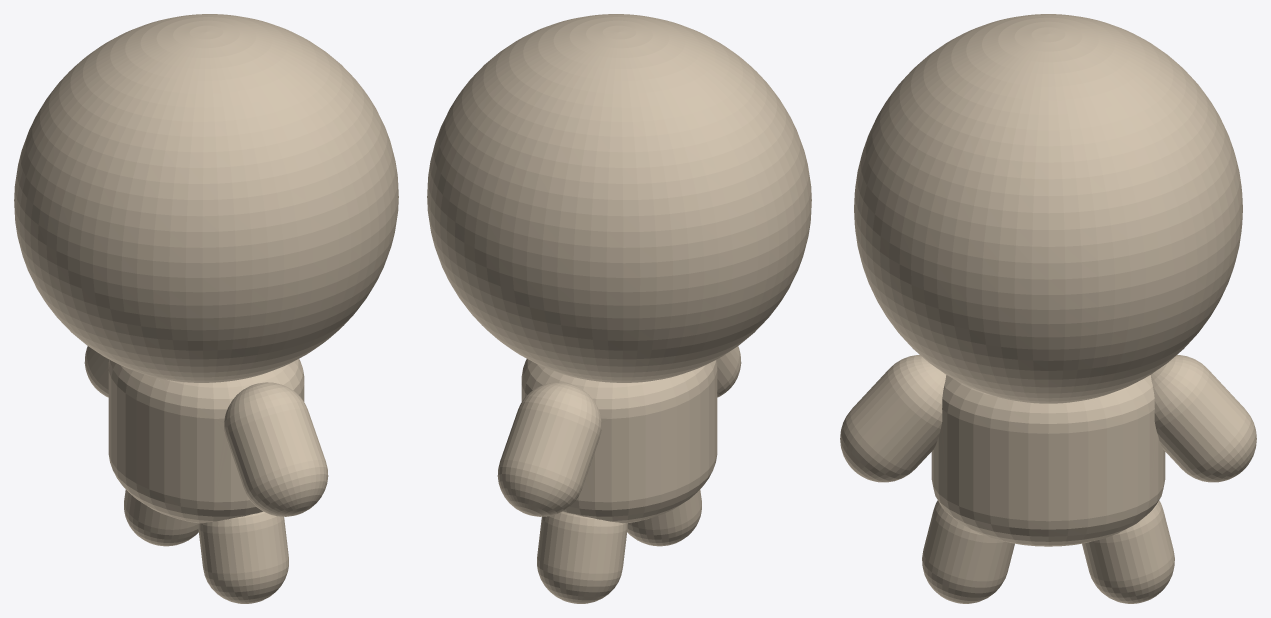
File: dummie.glb
The picture shows the model from 3 angles, left to right: view 1: azimuth 30°, elevation 25°; view 2: azimuth 150°, elevation 25°; view 3: azimuth 270°, elevation 25°; orthographic projection. The views are drawn at different scales.
Visible parts, largest first — view 1: Mesh_Mesh_head_geo.001_lambert2SG.001; view 2: Mesh_Mesh_head_geo.001_lambert2SG.001; view 3: Mesh_Mesh_head_geo.001_lambert2SG.001.
Boxes of the visible parts, x1,y1,x2,y2 form: Mesh_Mesh_head_geo.001_lambert2SG.001: (14,14,398,603); Mesh_Mesh_head_geo.001_lambert2SG.001: (427,14,811,603); Mesh_Mesh_head_geo.001_lambert2SG.001: (840,14,1256,603).
Size of the model in its own units: 0.0203 by 0.031 by 0.0207.
